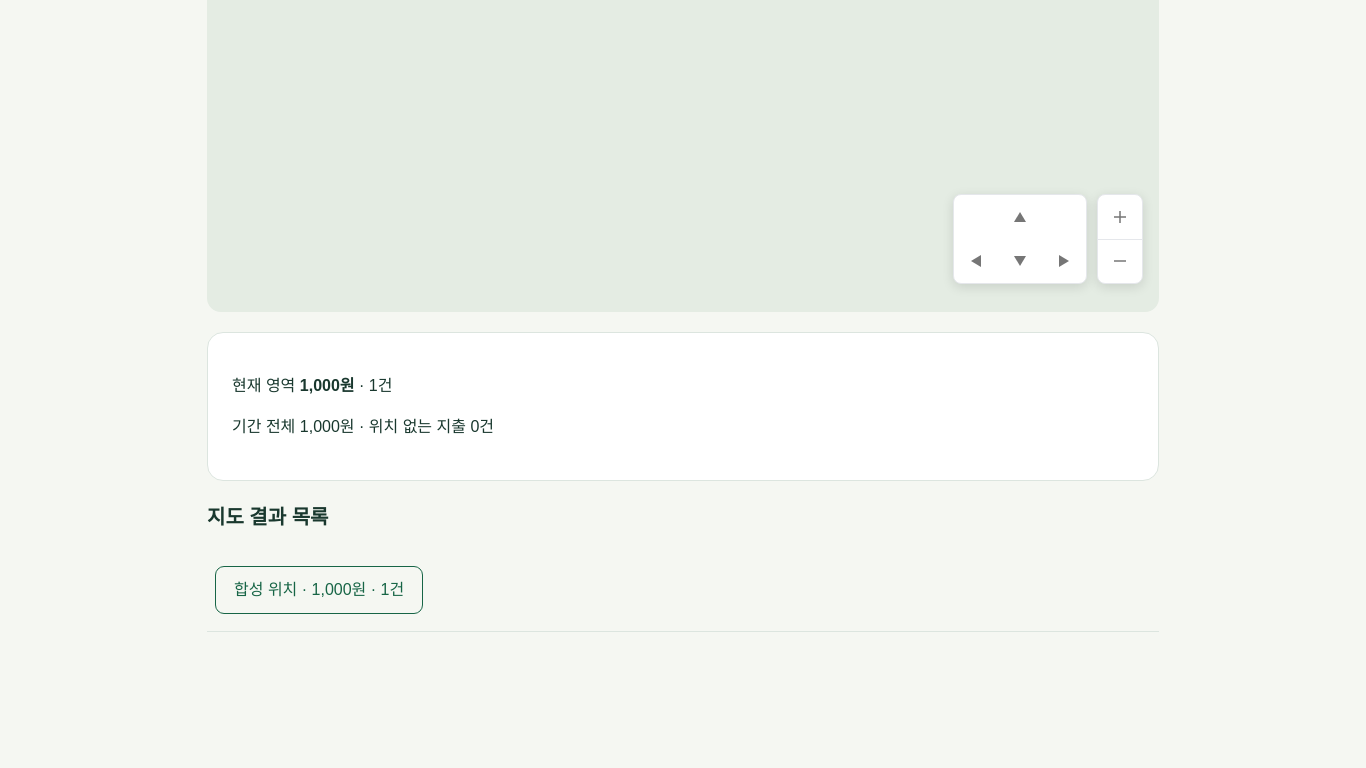
Test: 상세409 뒤 최신 지도 revision을 받은 다음 상세를 다시 조회한다
(page scrolled)
Click the button "합성 위치 · 1,000원 · 1건": click(319, 590) [215, 566, 423, 614]
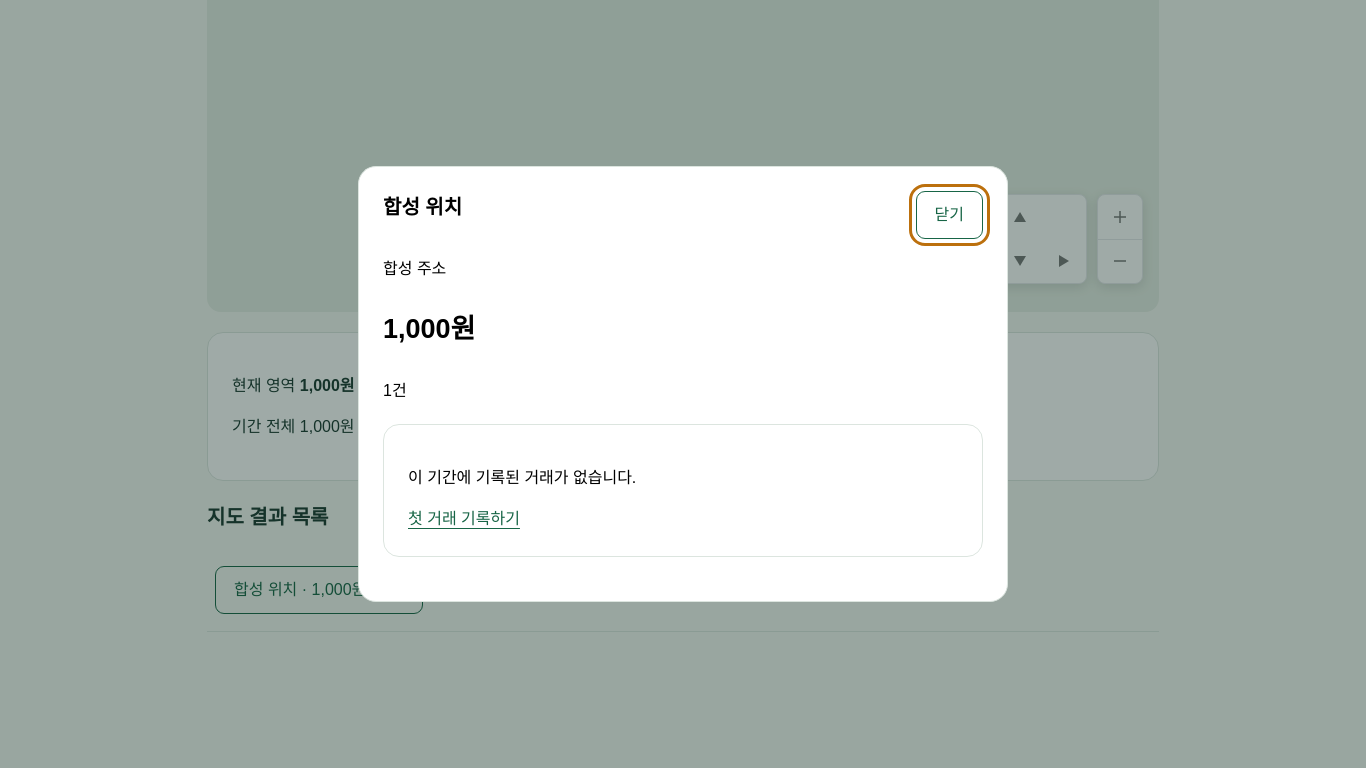
Check: the text "합성 주소" is shown, box [383, 260, 446, 276]
